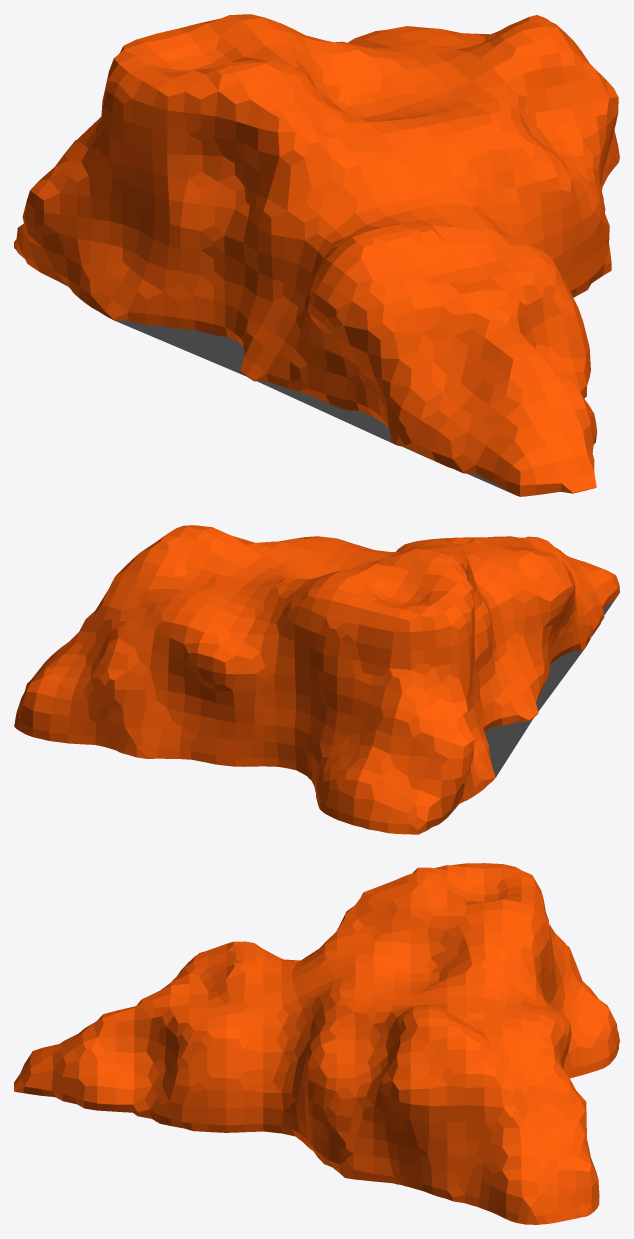
The picture shows the model from 3 angles, top to bottom: view 1: azimuth 30°, elevation 25°; view 2: azimuth 150°, elevation 25°; view 3: azimuth 270°, elevation 25°; orthographic projection. The views are drawn at different scales.
Parts seen in each view (by area): view 1: 19.009; view 2: 19.009; view 3: 19.009.
Boxes of the visible parts, <box> form: 19.009: <box>14,14,619,496</box>; 19.009: <box>14,525,619,834</box>; 19.009: <box>14,863,619,1224</box>.
Size of the model in its own units: 13.61 by 5.53 by 16.44.
